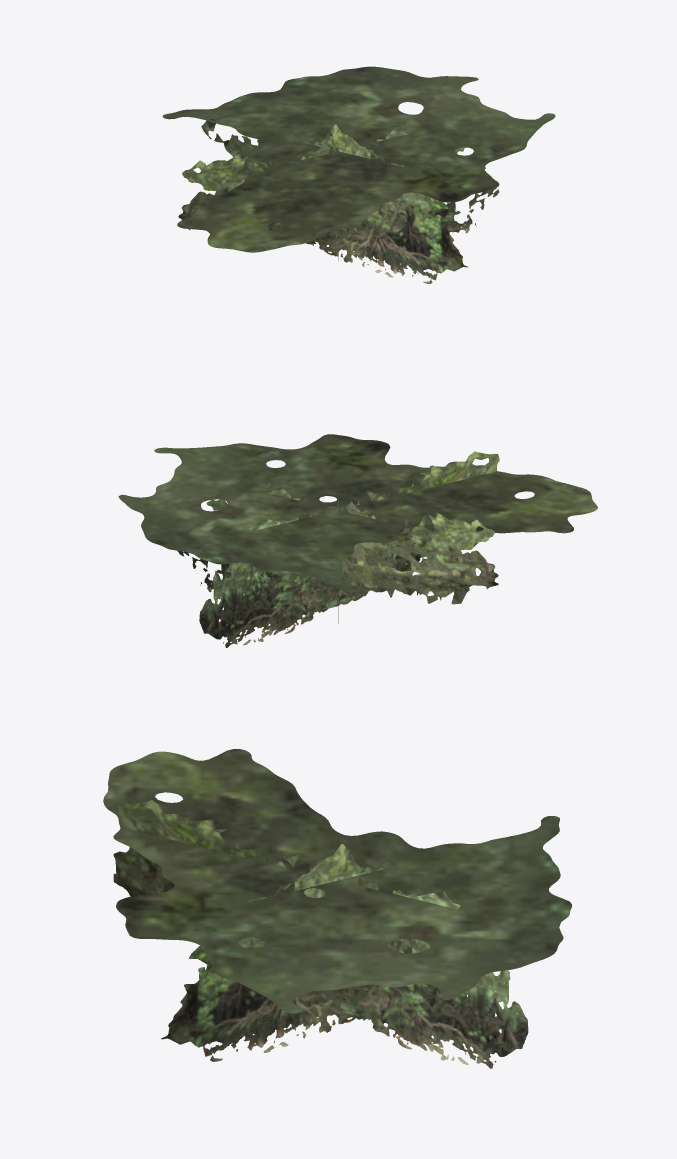
File: rhizo_lod2.glb
3 renders of one model, top to bottom at view 1: azimuth 30°, elevation 25°; view 2: azimuth 150°, elevation 25°; view 3: azimuth 270°, elevation 25°, orthographic. The views are drawn at different scales.
Parts seen in each view (by area): view 1: lod2; view 2: lod2; view 3: lod2.
Part boxes in pixels (x1,y1,x2,y2): lod2: (162,66,555,283); lod2: (118,434,597,647); lod2: (103,749,571,1068).
Bounding box in the file's own units: 26.74 × 8.79 × 26.74.
Materials: 1 (1 with a texture image).
